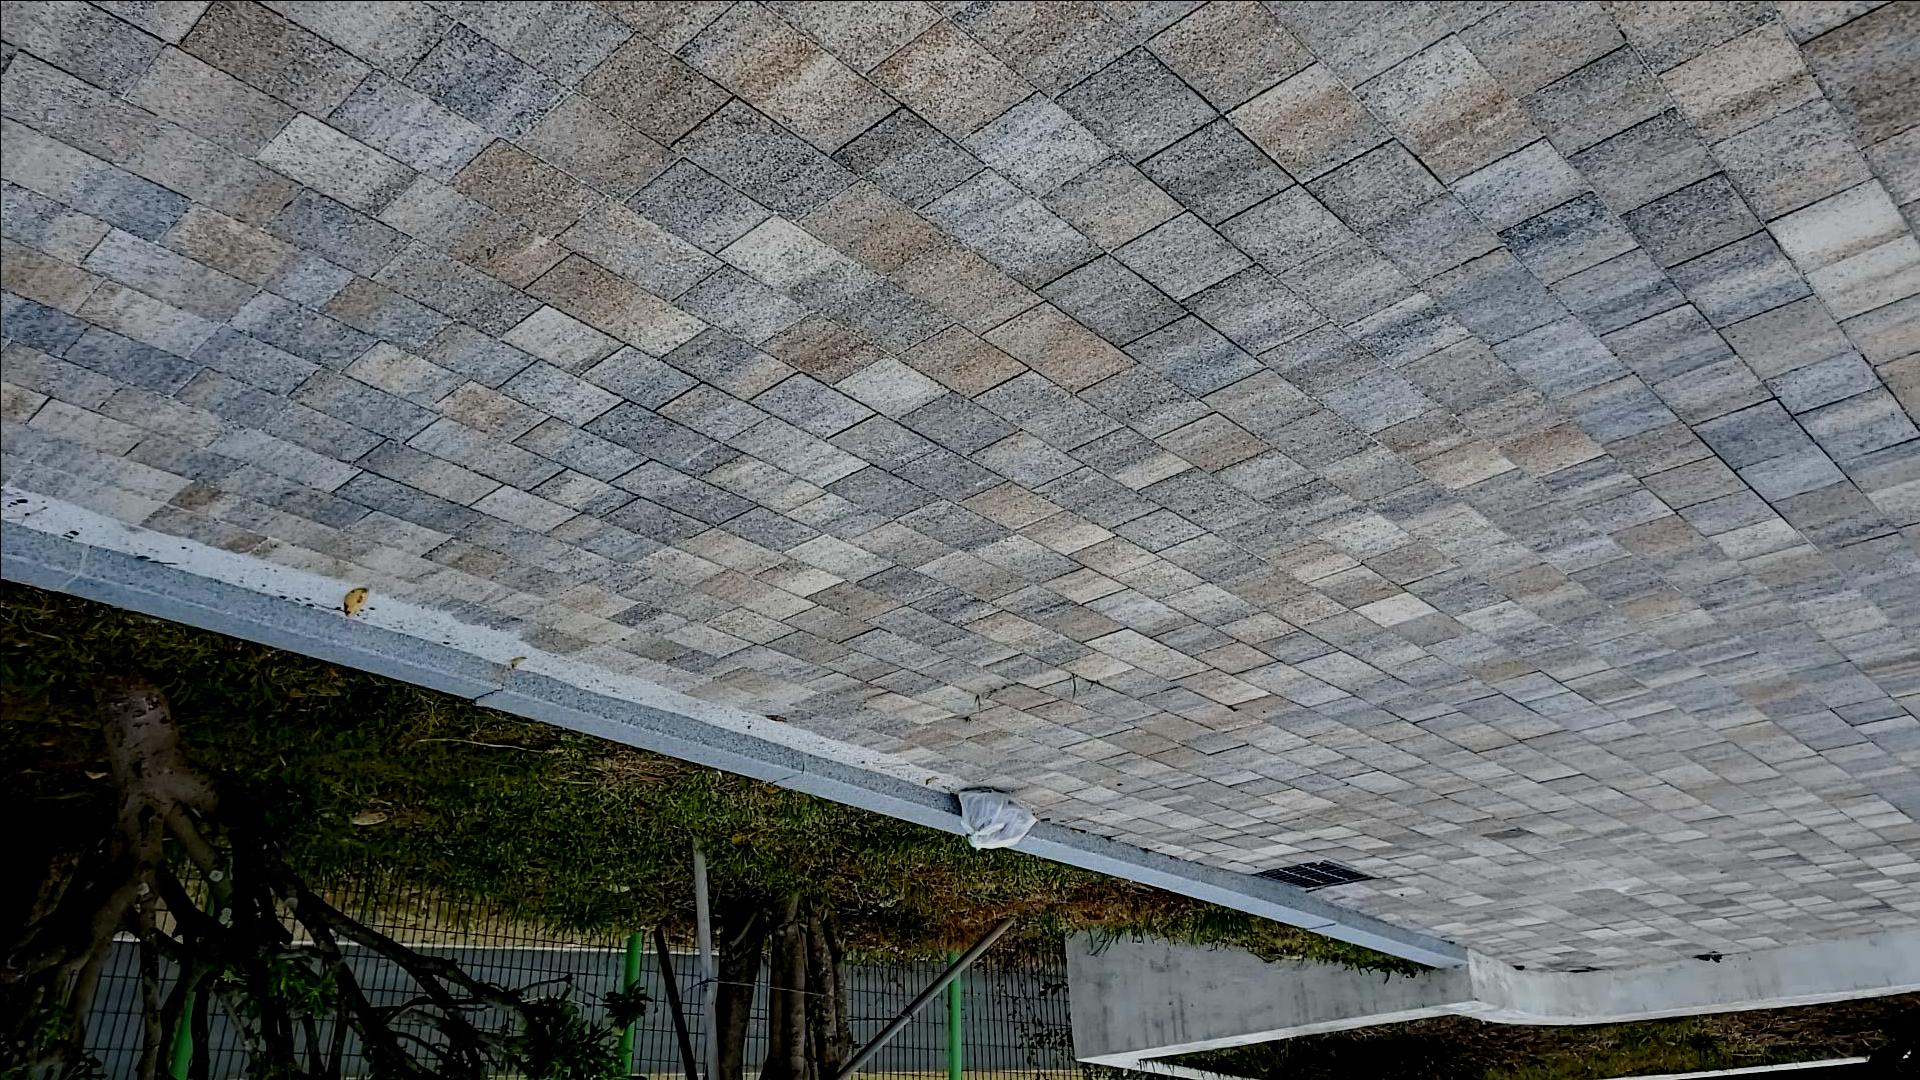white_bag: (949, 783, 1044, 855)
